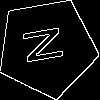N: (22, 22, 74, 66)
